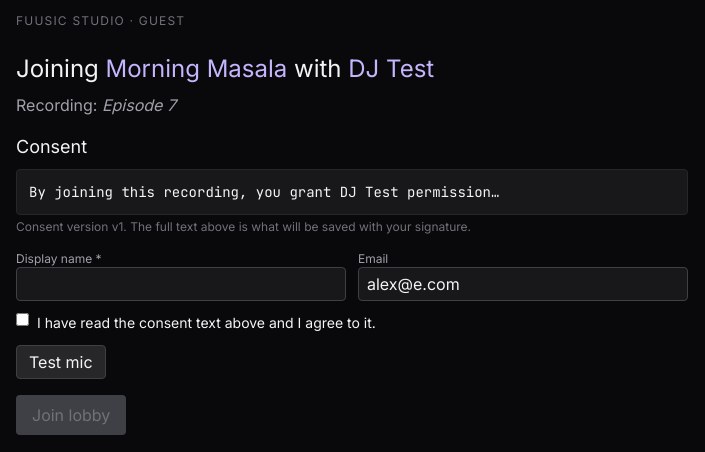
Test: Phase 36c Stage 2 — Public Guest landing › GuestJoin renders consent text + inputs + Test-mic + Join-lobby (disabled until valid)
Expected: the heading "Joining Morning Masala with DJ Test" is shown, 16,54 -> 434,83
Expected: the heading with test id "gjoin-heading" shows "Morning Masala", 106,54 -> 287,83
In the field with test id "gjoin-name-input": [181, 284] box 16,267 -> 346,301, type "Alex Guest"
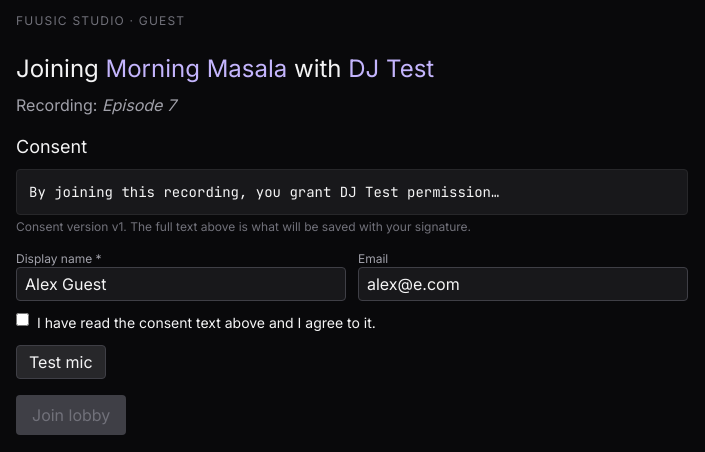
Click the checkbox with test id "gjoin-consent-checkbox": [22, 320] box 16,313 -> 29,326
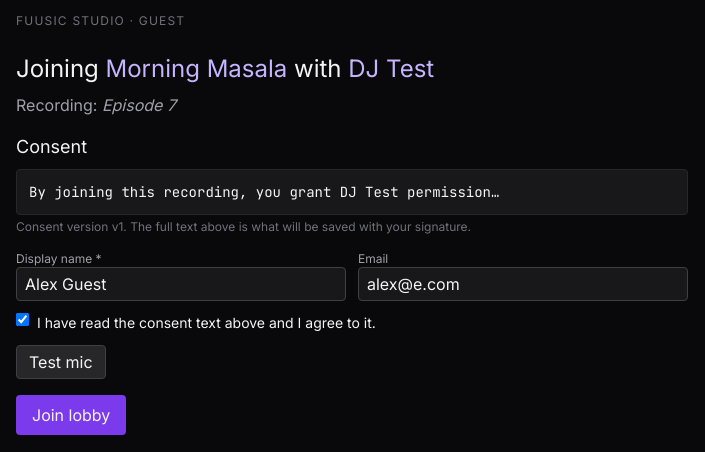
Now the button with test id "gjoin-submit" is enabled, box 16,395 -> 126,435
